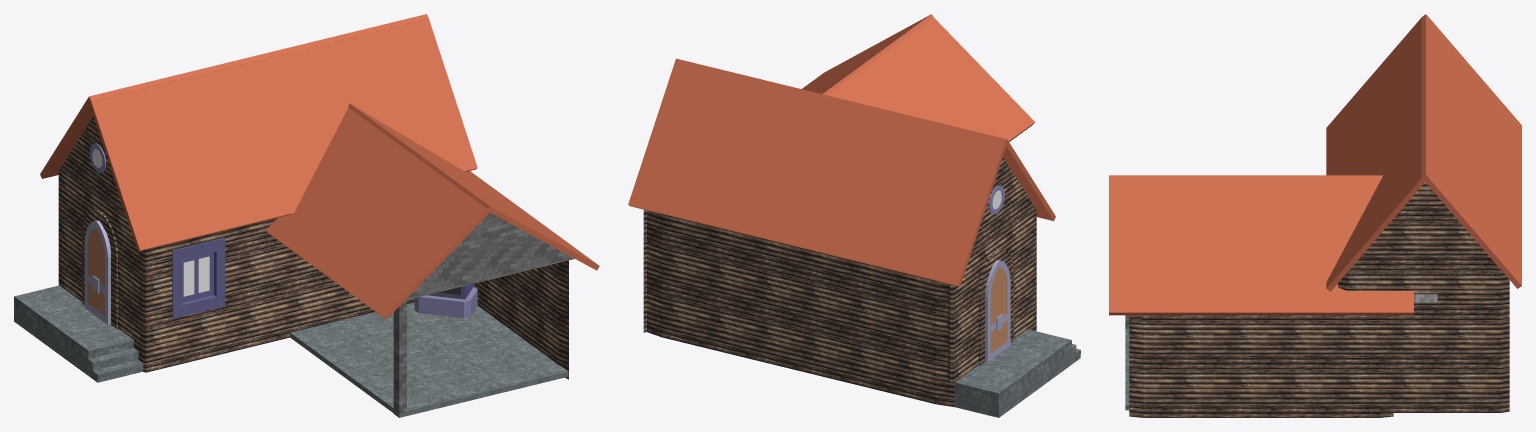
File: blacksmith.fbx
The picture shows the model from 3 angles, left to right: view 1: azimuth 30°, elevation 25°; view 2: azimuth 150°, elevation 25°; view 3: azimuth 270°, elevation 25°; orthographic projection. The views are drawn at different scales.
Visible parts, largest first — view 1: mergedBlocks; view 2: mergedBlocks; view 3: mergedBlocks.
Boxes of the visible parts, x1,y1,x2,y2 form: mergedBlocks: (14, 14, 599, 417); mergedBlocks: (628, 14, 1080, 417); mergedBlocks: (1109, 14, 1521, 417).
Size of the model in its own units: 79.23 by 49.92 by 75.85.
